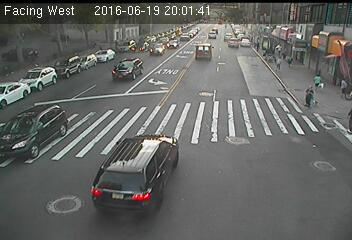neg: (46, 81, 75, 119), (131, 40, 151, 66), (155, 37, 172, 60), (30, 98, 46, 119), (109, 58, 124, 78), (178, 33, 193, 53), (92, 62, 106, 81), (206, 27, 220, 44), (73, 64, 85, 80), (222, 34, 231, 46)
pos: (301, 85, 318, 107), (310, 67, 326, 89), (336, 75, 351, 98), (272, 53, 287, 73), (284, 51, 297, 69), (274, 41, 286, 56)
